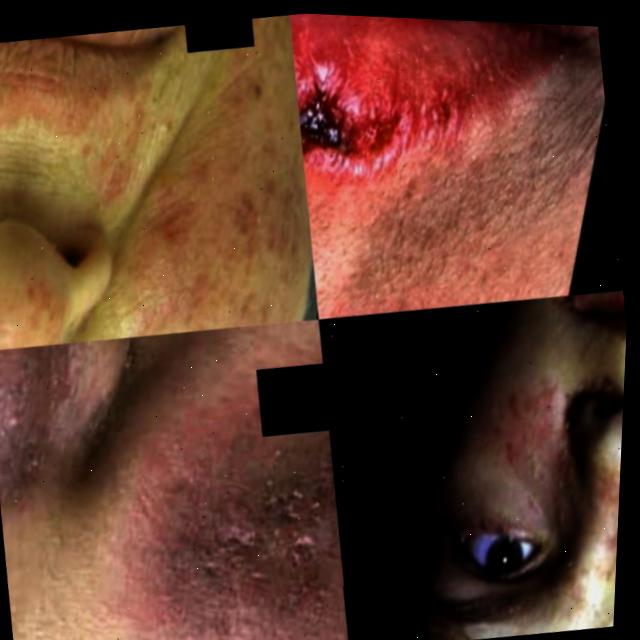lupus-detected: (0, 338, 363, 640), (277, 13, 631, 303), (54, 4, 332, 350), (387, 281, 628, 612), (0, 9, 255, 242), (0, 328, 170, 565), (532, 317, 627, 630), (0, 177, 156, 357)
